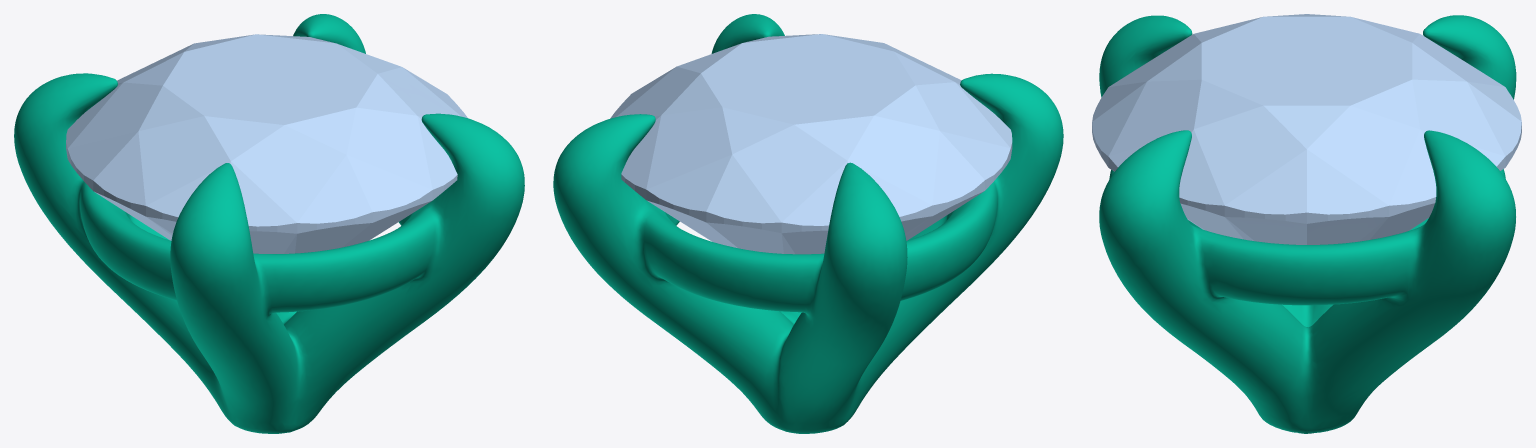
The model's file is 4 Prong Round_3.00ct.glb.
3 renders of one model, left to right at view 1: azimuth 30°, elevation 25°; view 2: azimuth 150°, elevation 25°; view 3: azimuth 270°, elevation 25°, orthographic. The views are drawn at different scales.
Visible parts, largest first — view 1: /4 Prong Round_3.00ct.3dm, Diamond_Round; view 2: /4 Prong Round_3.00ct.3dm, Diamond_Round; view 3: /4 Prong Round_3.00ct.3dm, Diamond_Round.
Part boxes in pixels (bbox=[...]): /4 Prong Round_3.00ct.3dm: bbox=[14, 14, 524, 433]; Diamond_Round: bbox=[66, 34, 467, 253]; /4 Prong Round_3.00ct.3dm: bbox=[553, 14, 1063, 433]; Diamond_Round: bbox=[610, 34, 1012, 254]; /4 Prong Round_3.00ct.3dm: bbox=[1099, 15, 1516, 433]; Diamond_Round: bbox=[1092, 14, 1521, 244].
Size of the model in its own units: 9.45 by 8.68 by 9.45.
